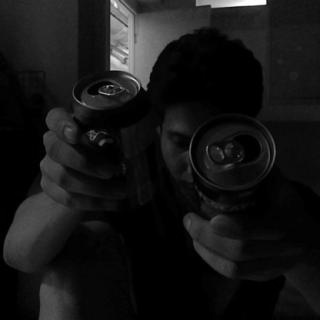alumunium_can: (188, 112, 276, 216), (71, 70, 144, 144)
